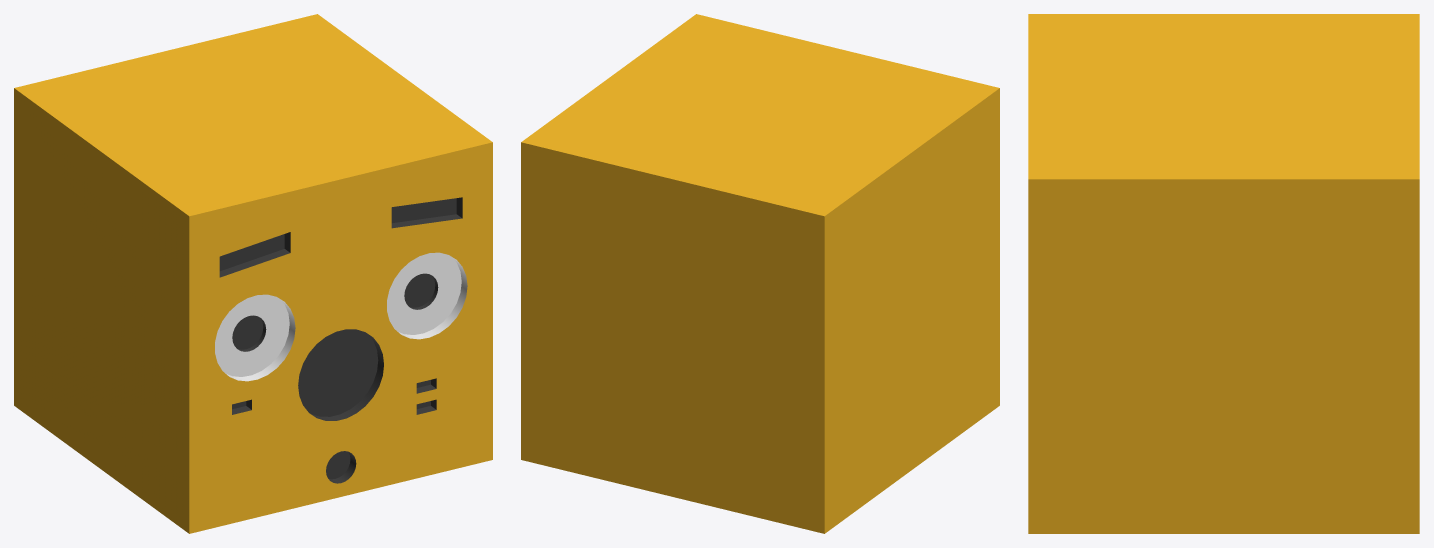
File: Botezin.glb
The picture shows the model from 3 angles, left to right: view 1: azimuth 30°, elevation 25°; view 2: azimuth 150°, elevation 25°; view 3: azimuth 270°, elevation 25°; orthographic projection. The views are drawn at different scales.
Parts seen in each view (by area): view 1: Part1; view 2: Part1; view 3: Part1.
Part boxes in pixels (box(x1,y1,x2,y2)): Part1: box(14, 14, 492, 533); Part1: box(521, 14, 999, 533); Part1: box(1028, 14, 1419, 533).
Bounding box in the file's own units: 0.03 × 0.03 × 0.03.
